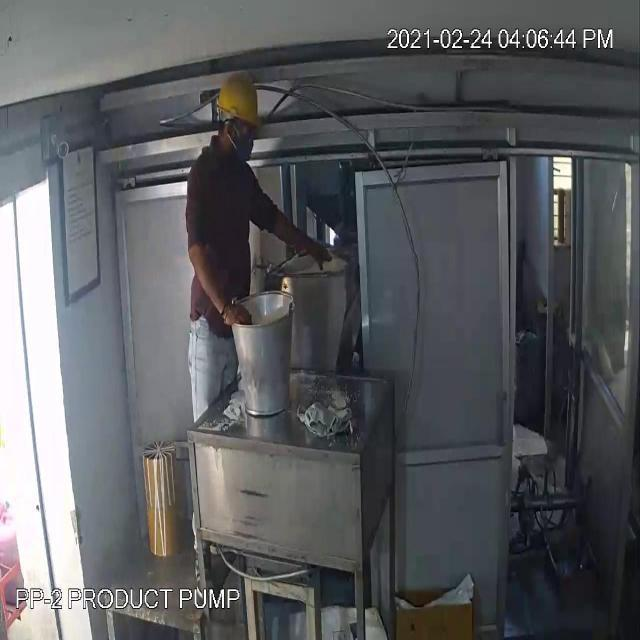hat: (205, 56, 268, 142)
